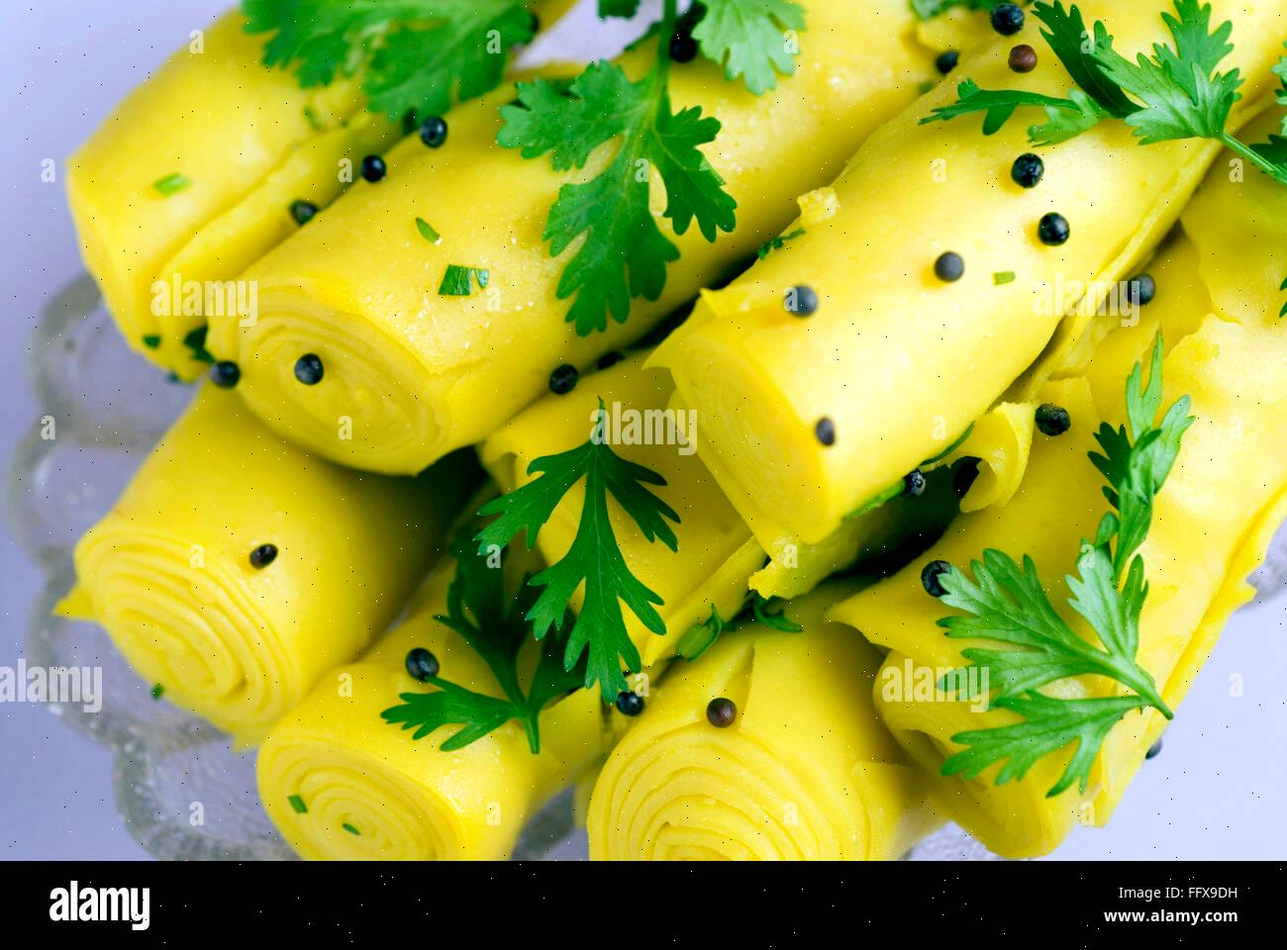khandvi: (0, 10, 1287, 858)
